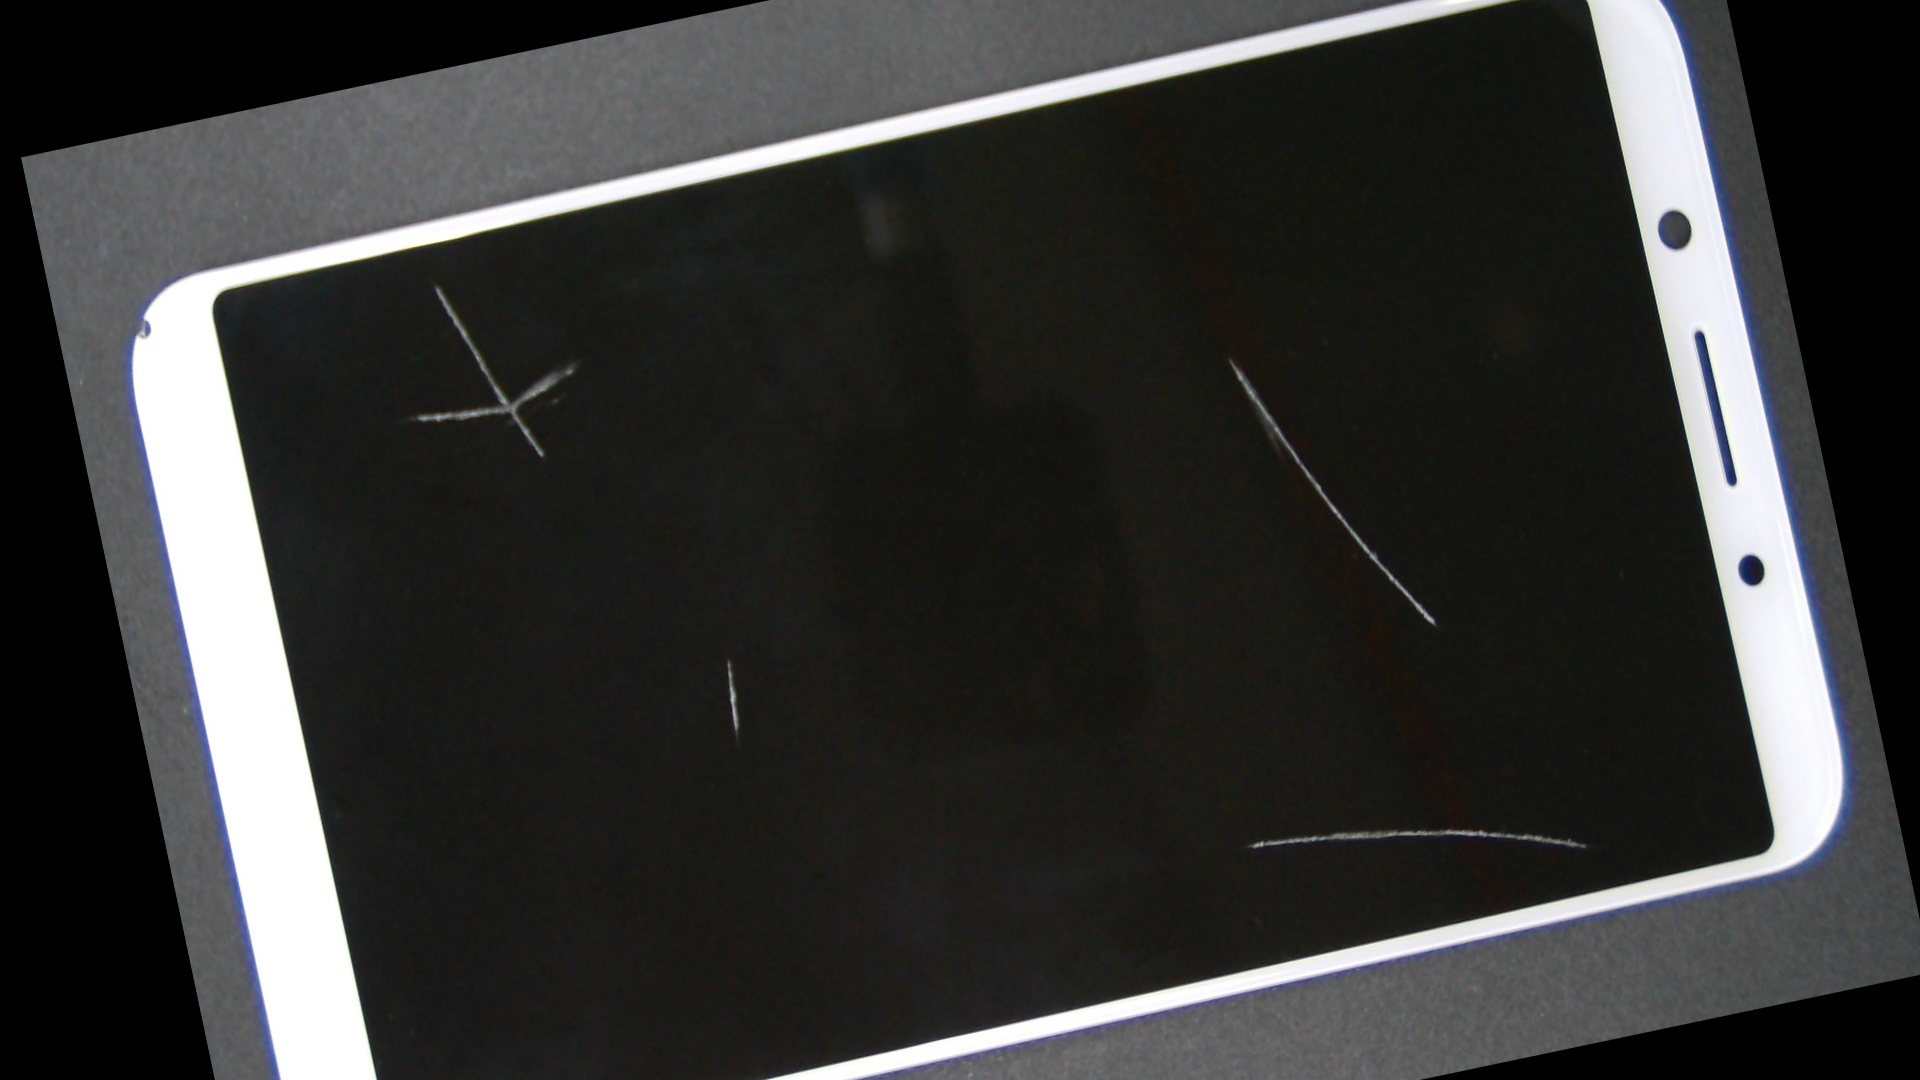oil: (640, 278, 1837, 1080), (625, 25, 1824, 692), (375, 286, 1081, 1031), (228, 142, 642, 429)
